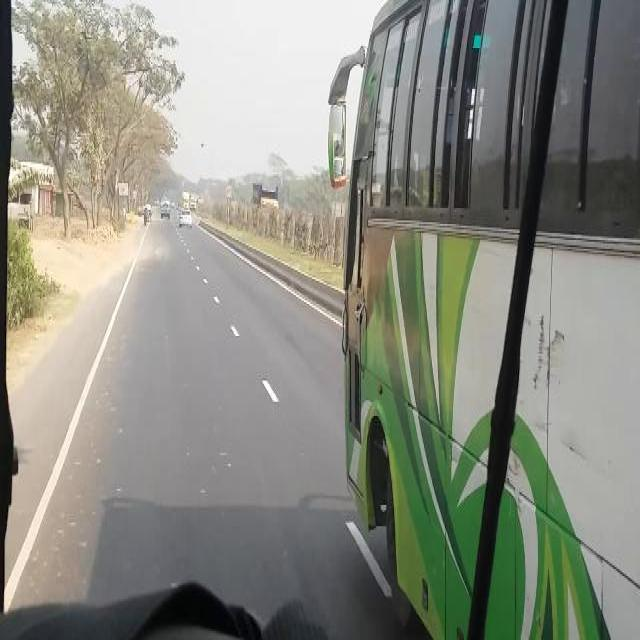bus: (328, 7, 638, 637)
car: (178, 208, 192, 226)
truck: (252, 182, 278, 212), (159, 196, 169, 216), (181, 191, 189, 207), (189, 195, 197, 207)
